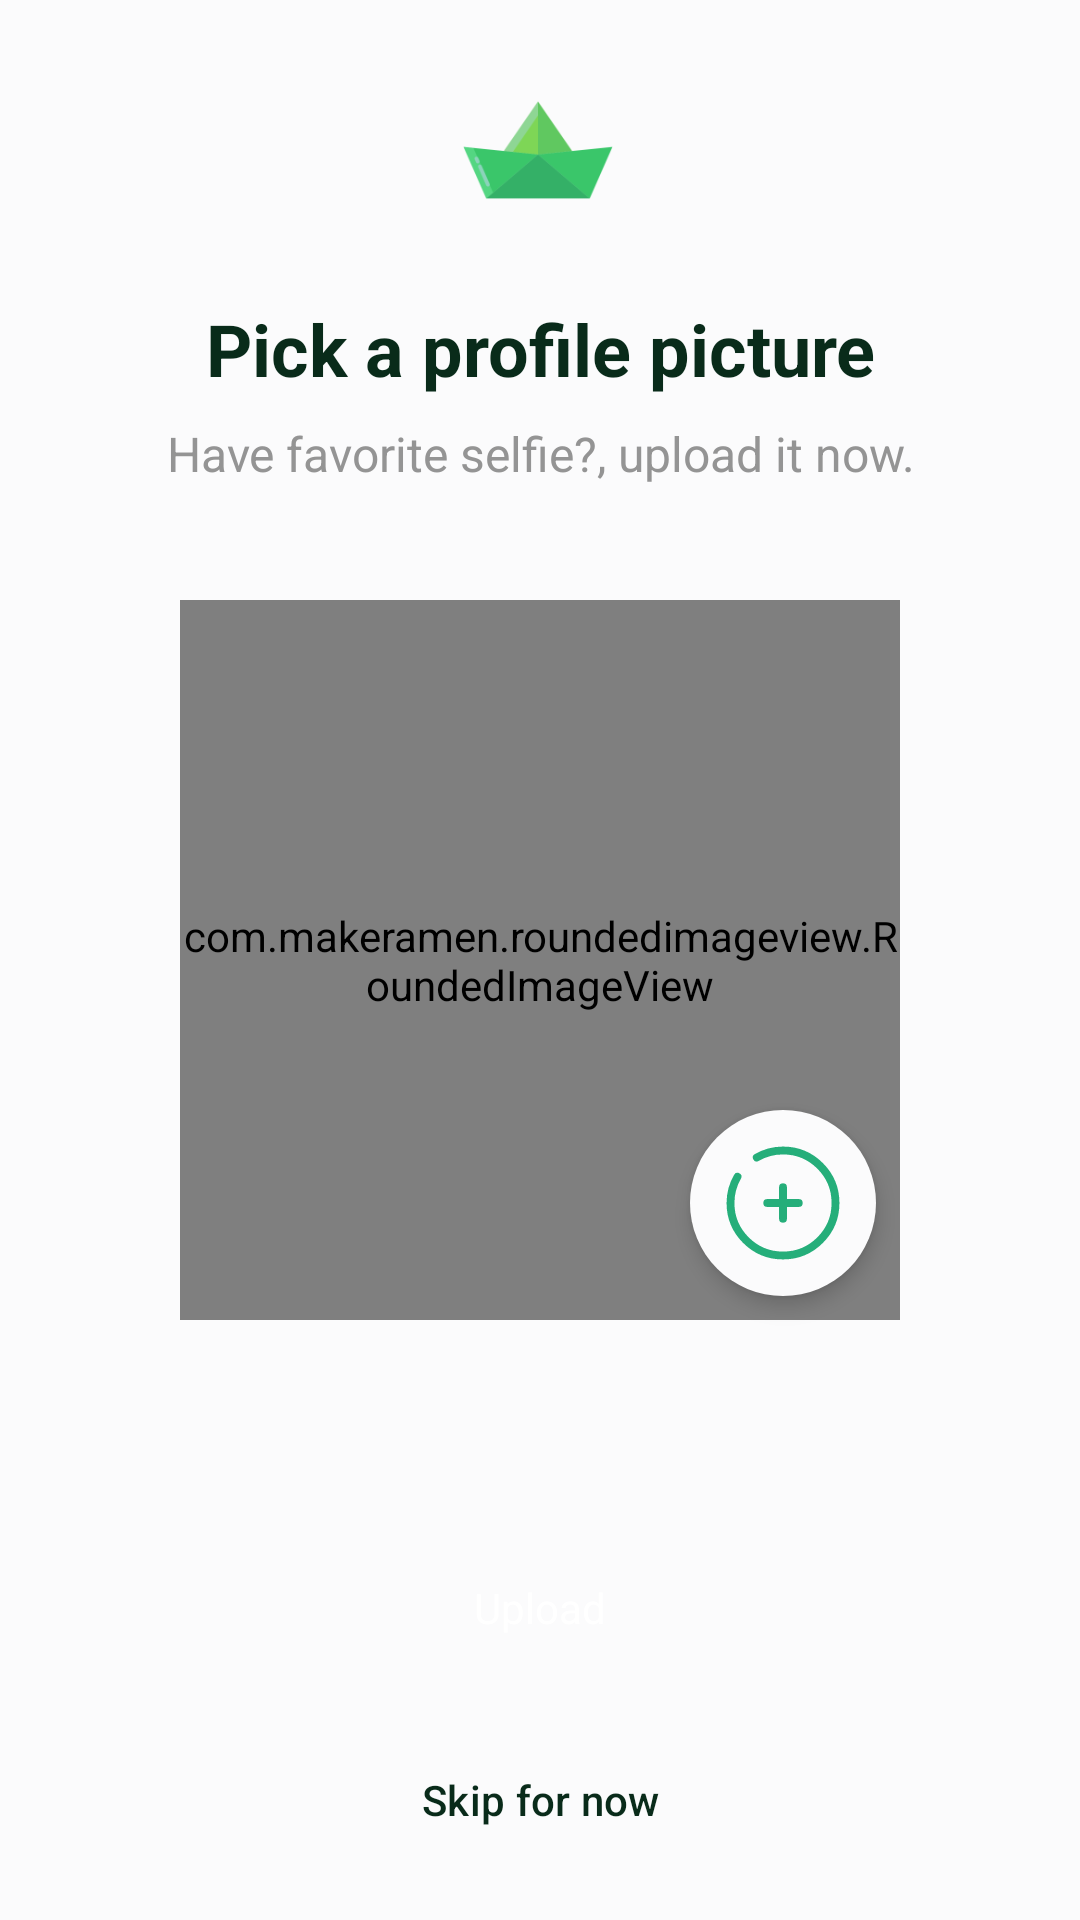

Where to tap for icons on this 1080×1920 app screen, as (x=x, y=y):
add: (x=783, y=1203)
